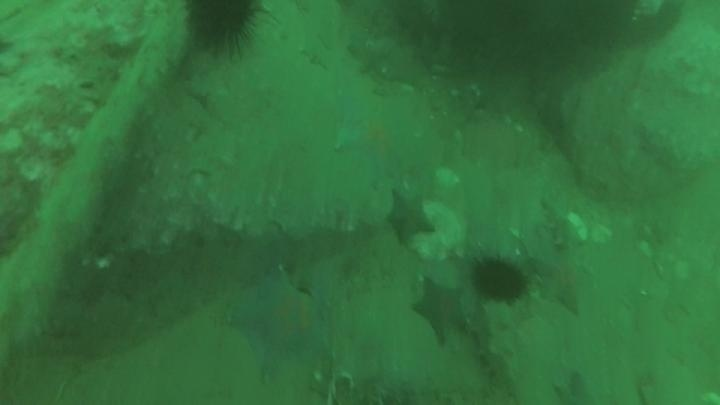echinus: (183, 1, 265, 55), (469, 255, 530, 305)
holothurian: (473, 301, 522, 401)
starfish: (225, 267, 333, 380), (332, 94, 425, 181), (531, 244, 595, 316), (409, 275, 470, 346), (382, 187, 437, 246)
